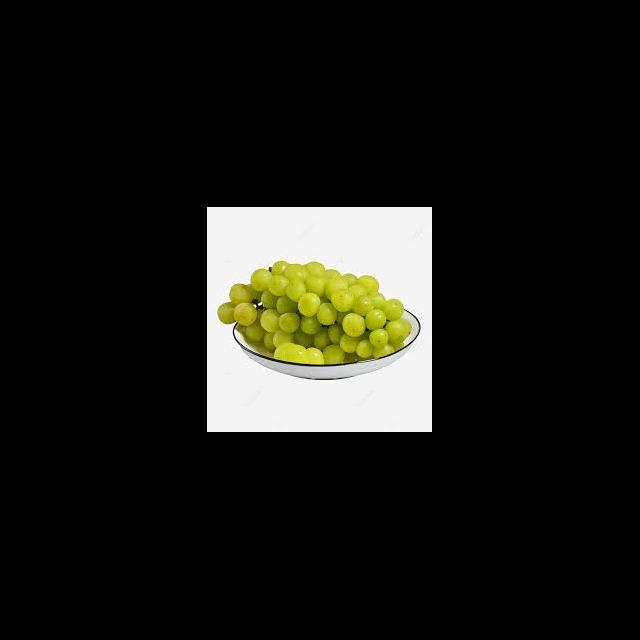grape: (218, 260, 412, 366)
